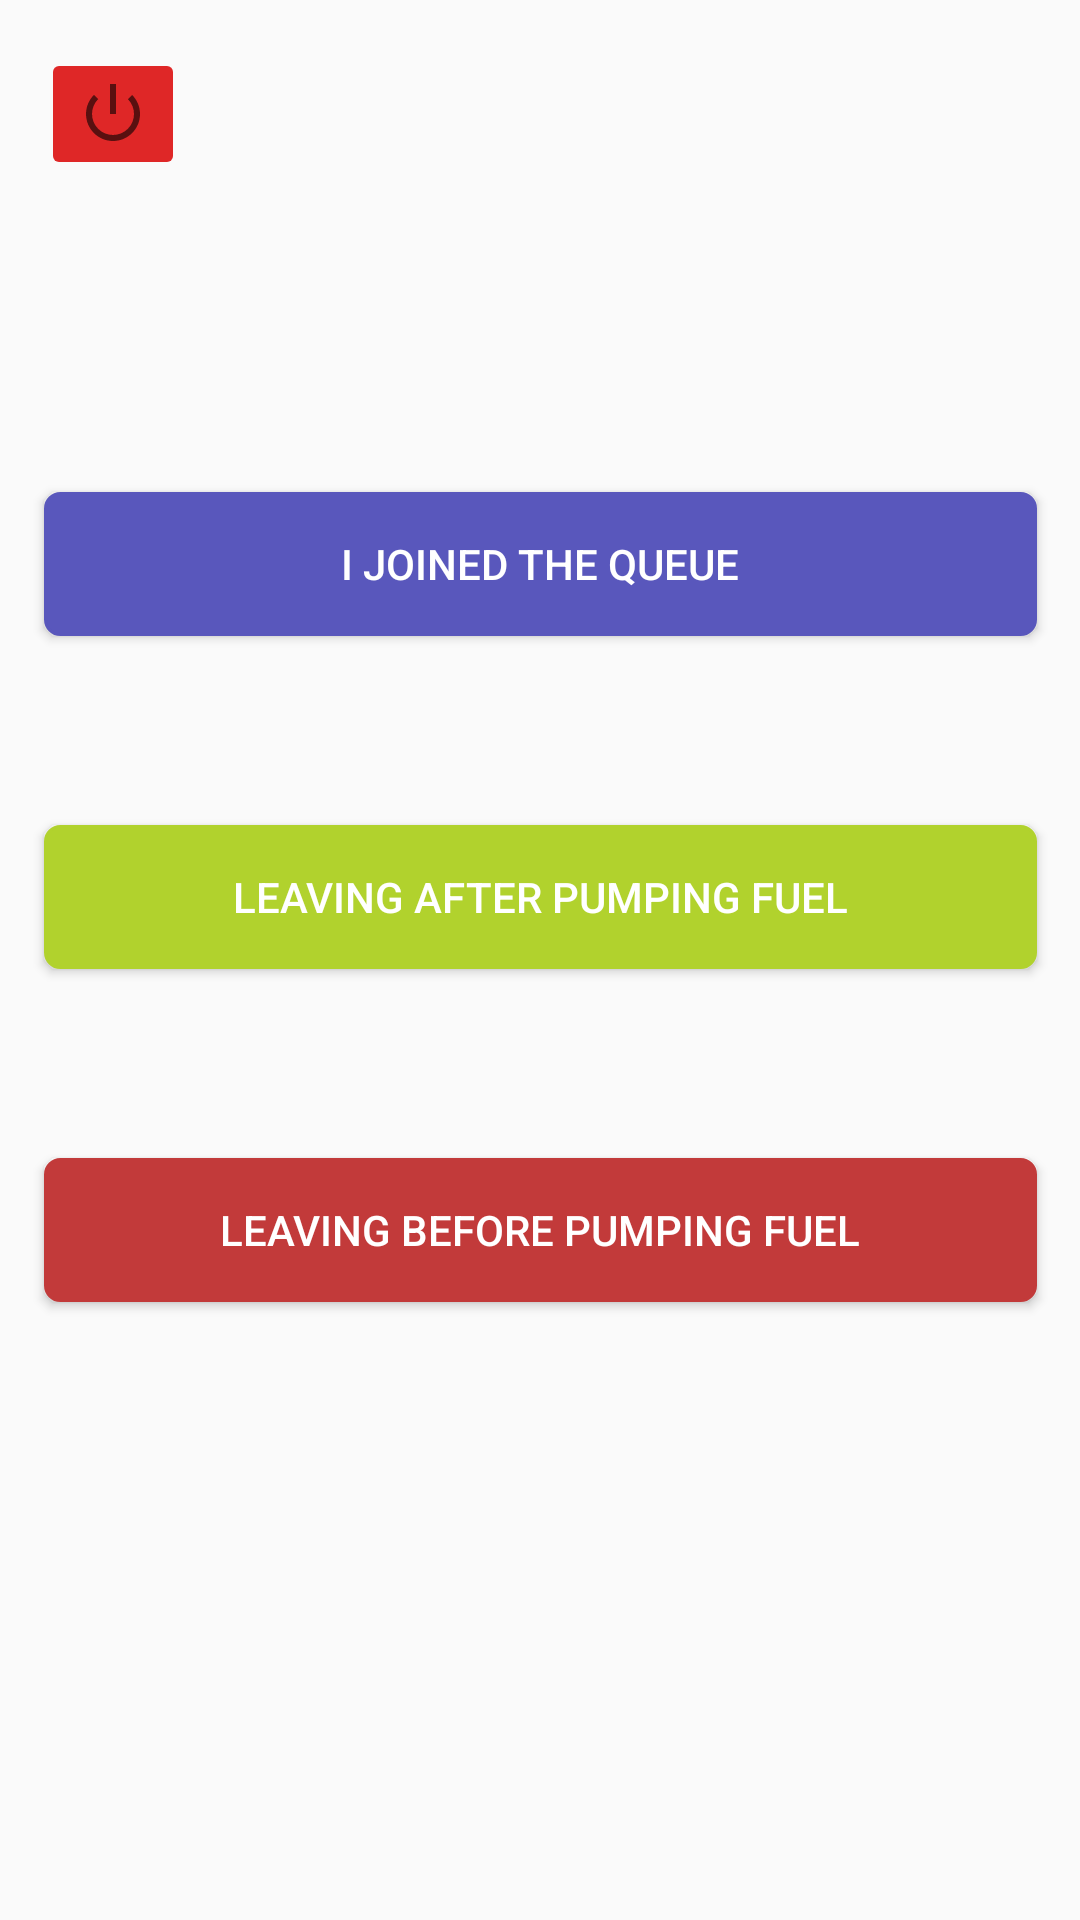

Named icons in this screenshot (1080x1920) and their centers, (x=x, y=y):
lock power off: (x=113, y=114)
